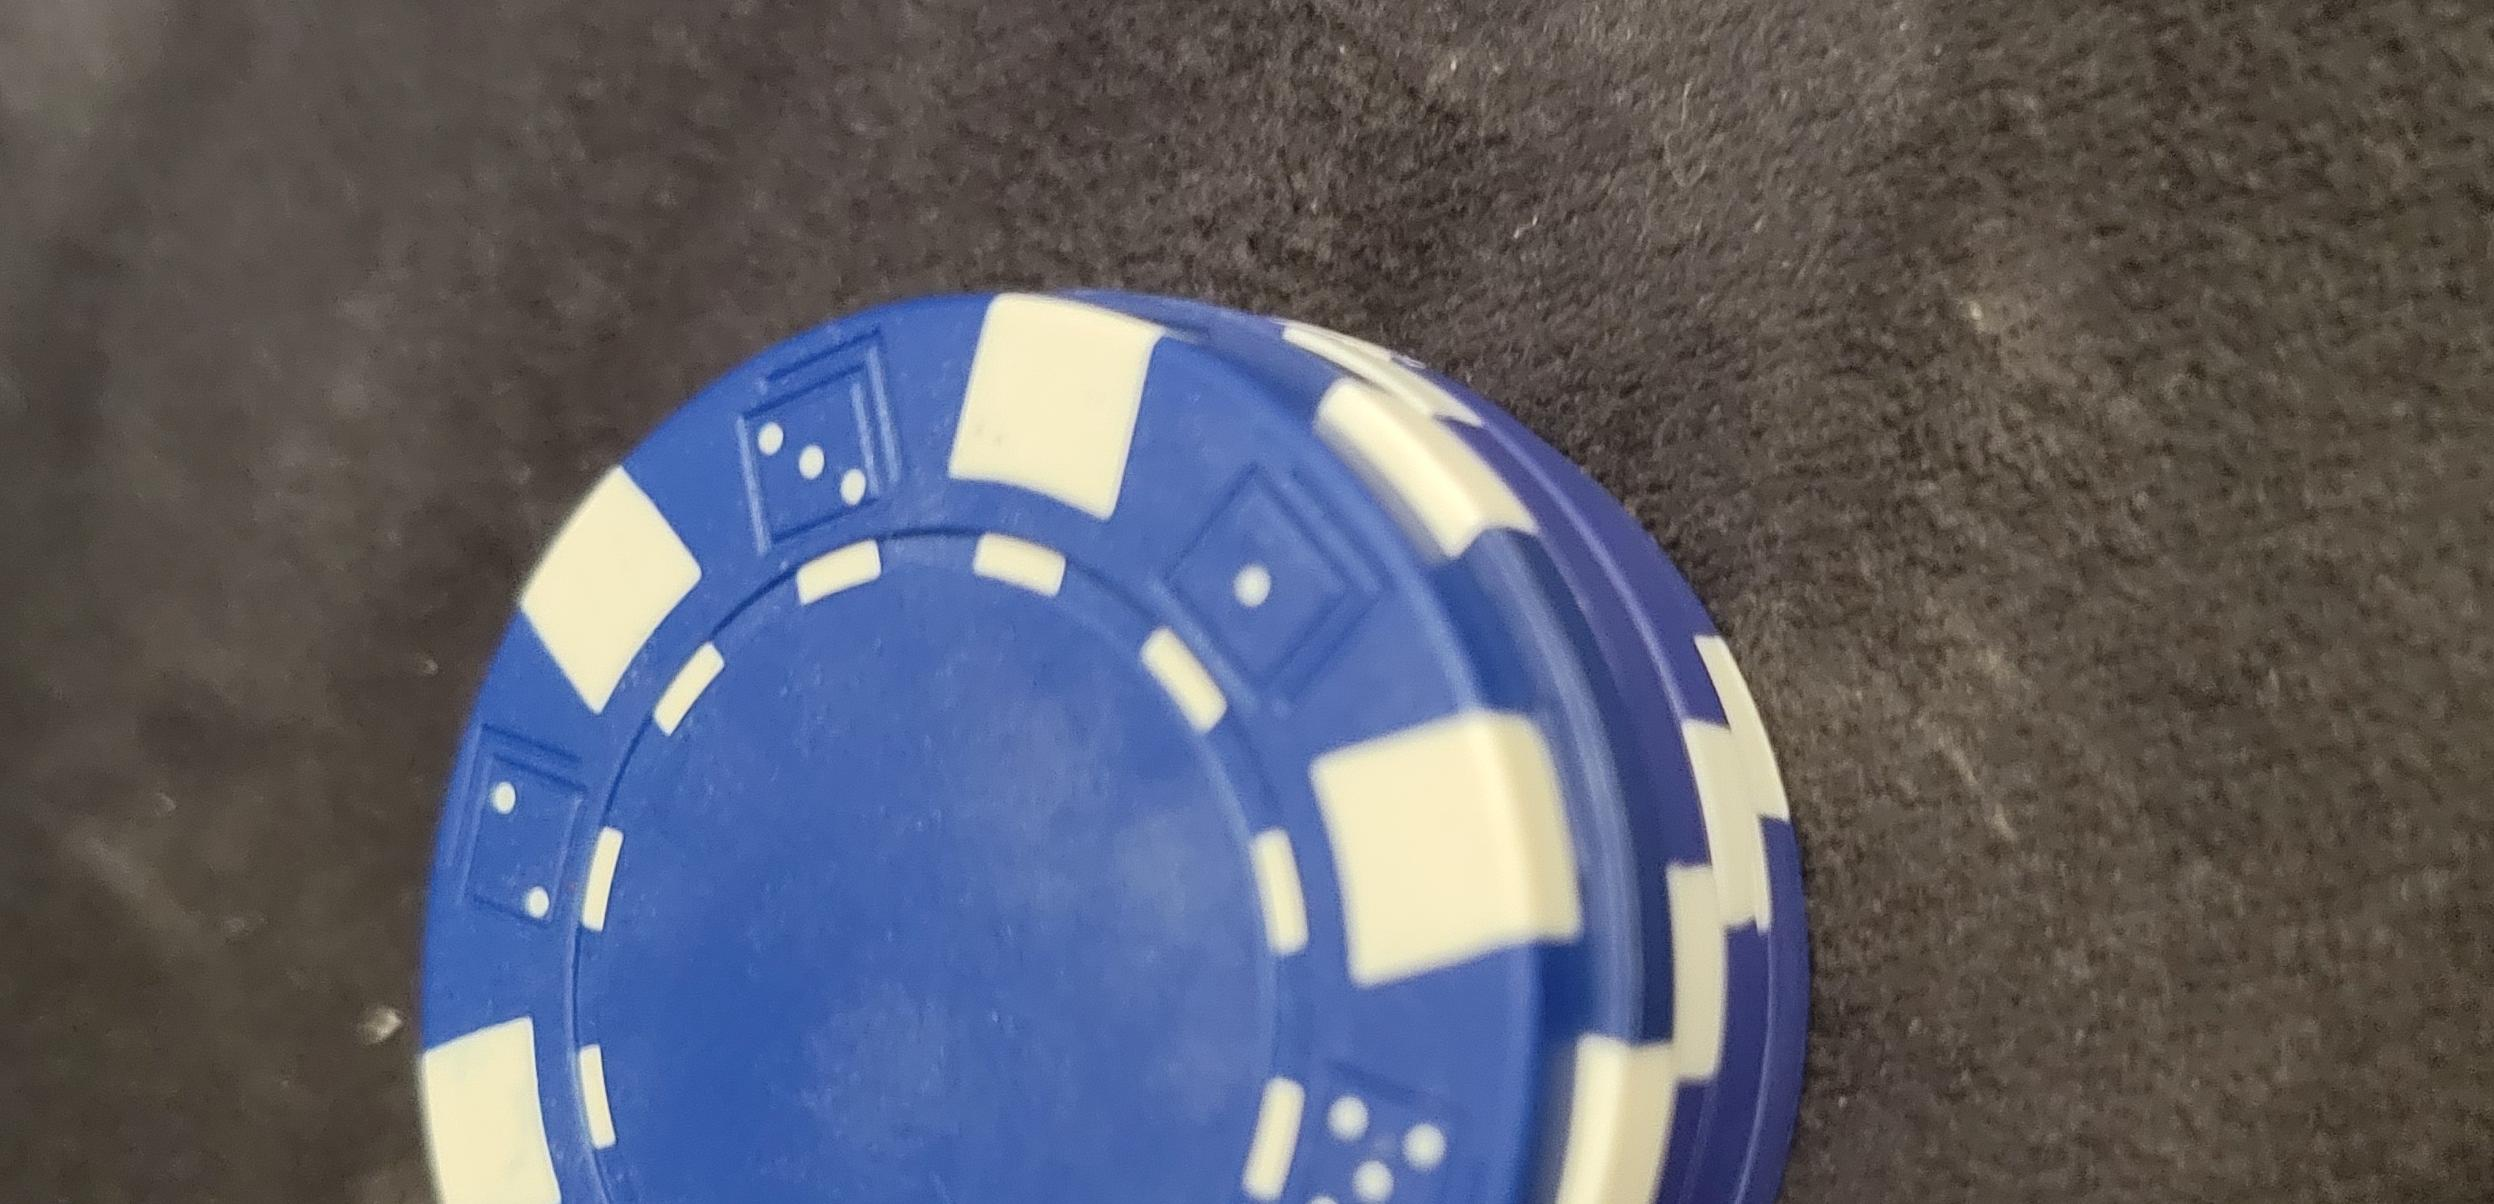Chip: (2, 227, 1718, 1204)
